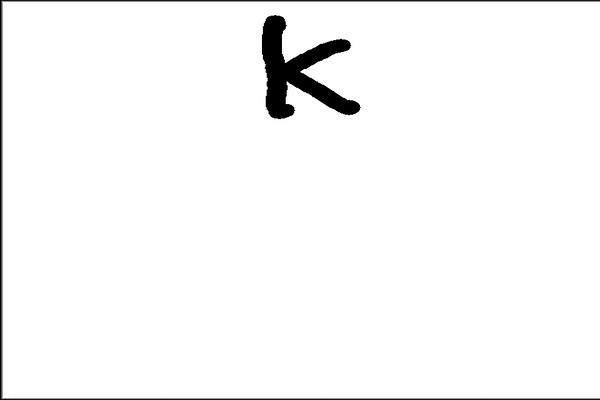K: (252, 9, 372, 133)
